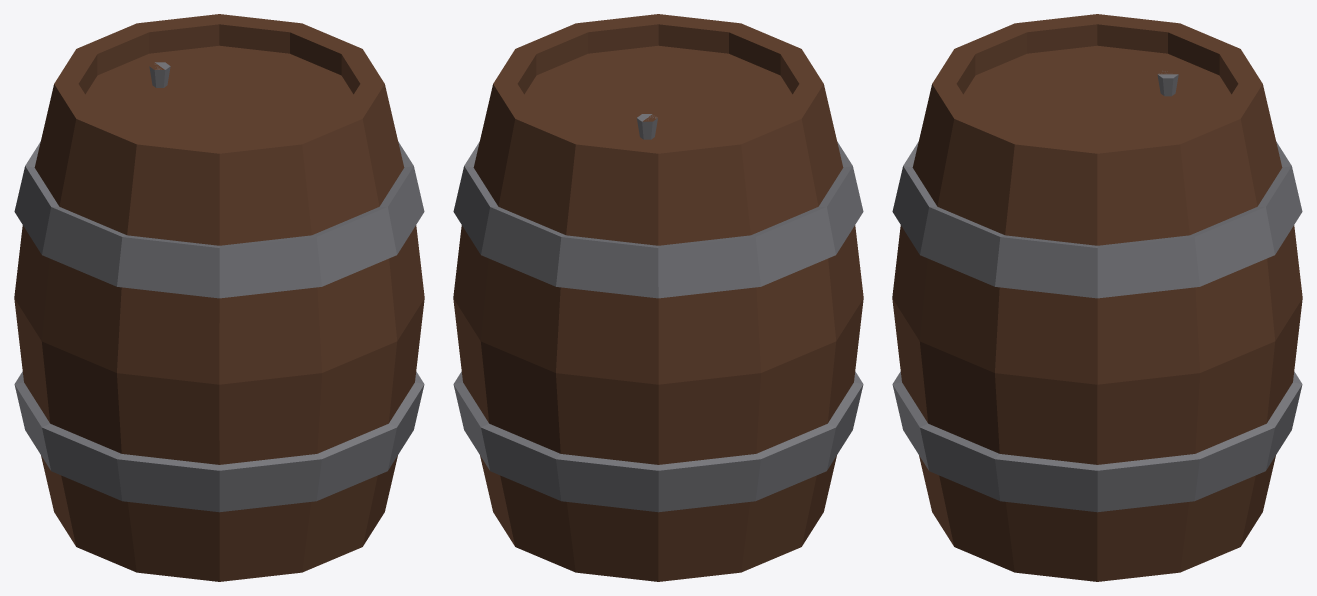
The model's file is barrel.fbx.
3 renders of one model, left to right at view 1: azimuth 30°, elevation 25°; view 2: azimuth 150°, elevation 25°; view 3: azimuth 270°, elevation 25°, orthographic.
Visible parts, largest first — view 1: barrel; view 2: barrel; view 3: barrel.
Part boxes in pixels (x1,y1,x2,y2): barrel: (14,14,424,581); barrel: (453,14,863,581); barrel: (892,14,1302,581).
Size of the model in its own units: 108 by 124 by 108.
